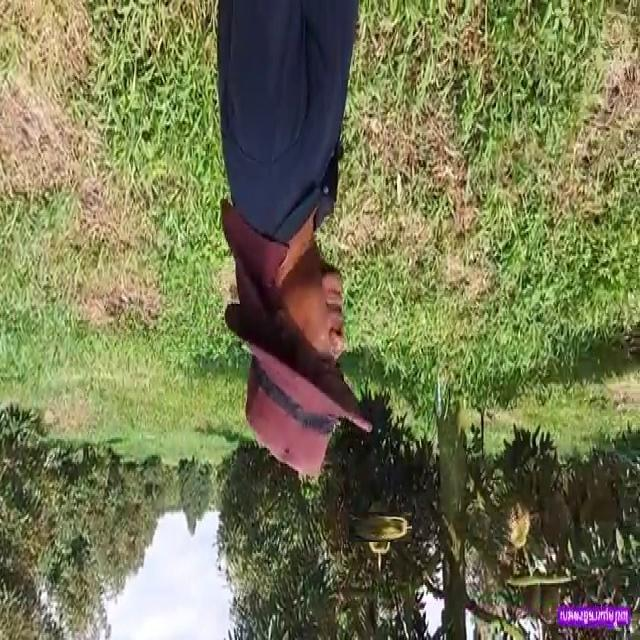durian: (357, 504, 403, 550), (507, 496, 532, 551)
